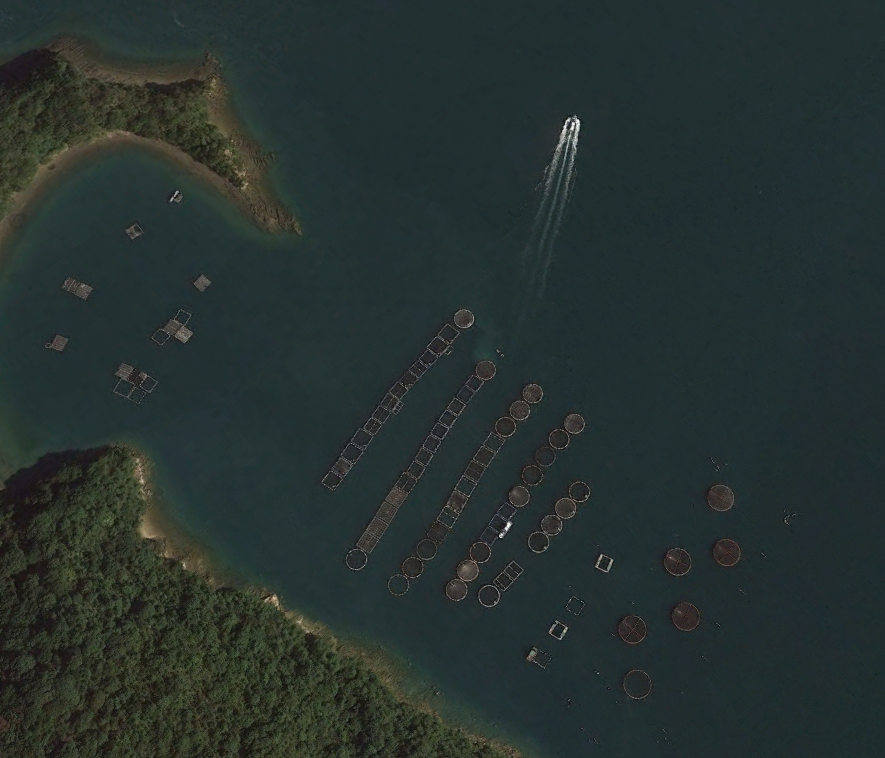circle: (667, 597, 706, 635), (620, 665, 657, 704), (657, 543, 696, 578), (615, 609, 651, 646), (710, 533, 746, 568), (707, 478, 737, 514), (443, 575, 471, 605), (385, 571, 414, 599), (475, 581, 503, 610), (398, 554, 426, 582), (561, 408, 588, 437), (453, 556, 480, 584), (465, 539, 494, 565), (414, 534, 441, 561), (537, 509, 564, 536), (450, 303, 476, 331), (518, 380, 547, 405), (492, 413, 518, 439), (506, 481, 532, 507), (474, 356, 499, 382), (343, 545, 368, 571), (547, 425, 572, 451), (519, 461, 545, 486), (568, 477, 593, 503), (508, 396, 532, 422), (525, 529, 551, 553), (554, 492, 578, 517), (532, 445, 558, 468)
ship: (557, 106, 588, 146)
square: (525, 643, 556, 671), (444, 488, 471, 515), (337, 440, 365, 466), (378, 388, 404, 416), (460, 460, 488, 485), (425, 519, 453, 544), (438, 318, 463, 346), (471, 443, 498, 468), (453, 474, 480, 499), (487, 512, 514, 537), (434, 505, 462, 529), (134, 370, 162, 394), (562, 591, 587, 617), (126, 381, 152, 406), (354, 530, 380, 554), (348, 425, 374, 449), (384, 483, 408, 508), (374, 499, 400, 522), (111, 374, 137, 397), (427, 420, 453, 443), (593, 551, 617, 575), (365, 514, 389, 538), (548, 616, 571, 641), (406, 353, 429, 378), (394, 469, 417, 494), (190, 272, 216, 294), (123, 219, 147, 242), (46, 331, 71, 353), (111, 360, 137, 381), (483, 430, 506, 453), (478, 526, 501, 549), (502, 558, 525, 581), (492, 570, 515, 593), (60, 271, 83, 294), (174, 324, 197, 347), (319, 470, 343, 492), (74, 281, 97, 303), (413, 446, 435, 469), (435, 407, 459, 428), (369, 404, 394, 424), (429, 332, 449, 357), (328, 457, 354, 476), (171, 306, 193, 328), (150, 325, 172, 347), (420, 433, 443, 454), (418, 346, 439, 368), (446, 395, 467, 417), (361, 416, 384, 436), (407, 459, 428, 480), (497, 500, 519, 520), (465, 373, 487, 393), (456, 383, 476, 405), (164, 316, 185, 335), (390, 379, 411, 398), (399, 367, 419, 386)
